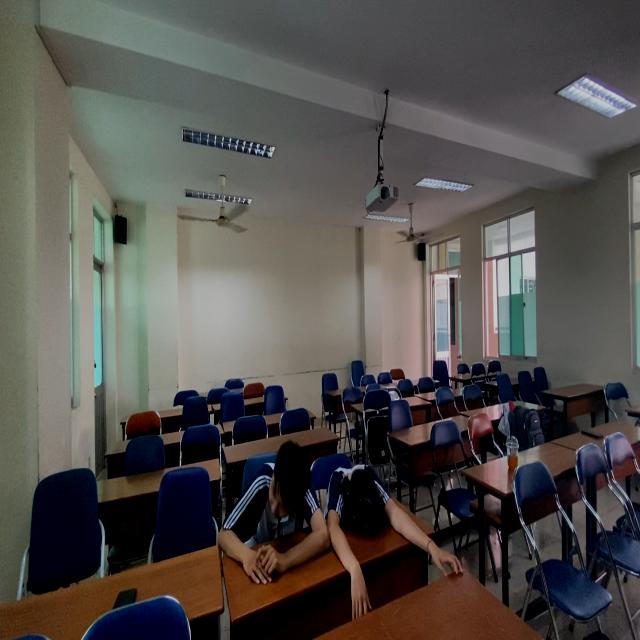sleep: (321, 449, 413, 563)
